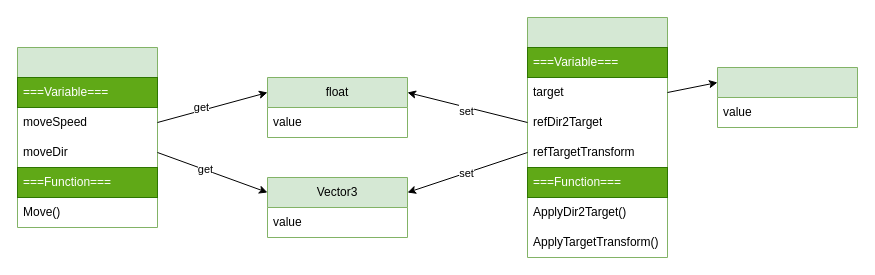
Image size: 875x275. Some labels were removed from this diagram. Each missing label, with the box of its shape:
DetectTarget: (526, 16, 668, 258)
MoveByDir: (16, 46, 158, 228)
Transform: (716, 66, 858, 128)
